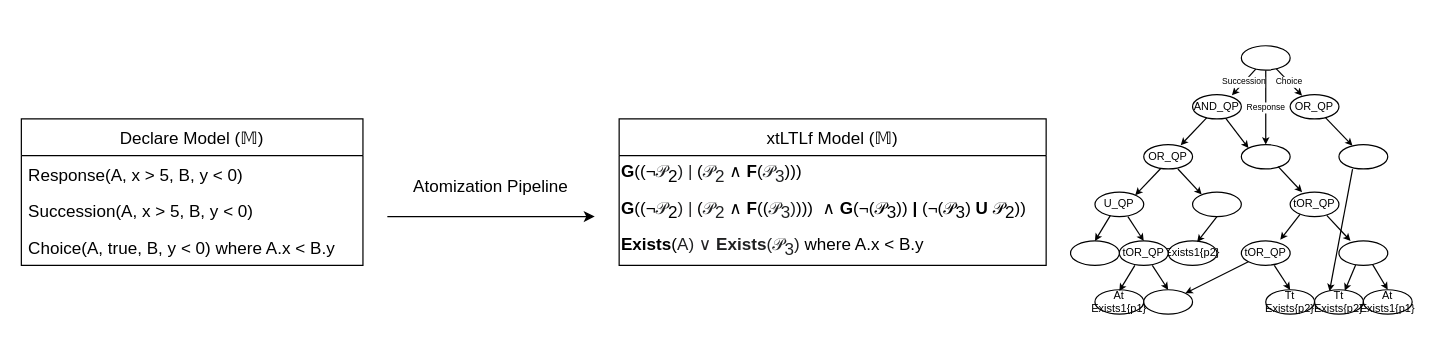
Image size: 1436x345. Some labels were removed from this diagram. Each missing label, with the centre of its shape:
"Absence1{p2}" goes at (1216,204).
"At Exists1{A}" goes at (1363,156).
"Ensemble" goes at (1265,57).
"G_QP" goes at (1265,156).
"t Exists{C, p0, p3}" goes at (1168,301).
"tAF_QPT" goes at (1363,252).
"Tt Exists{p1}" goes at (1094,252).
